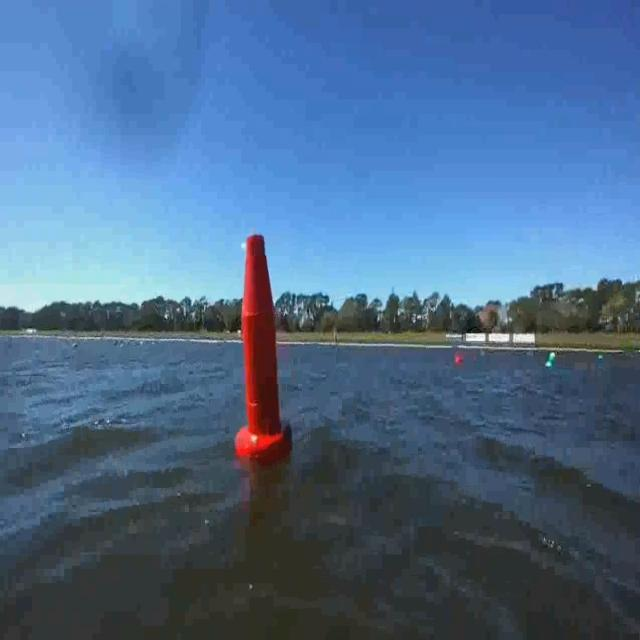green-buoy: (549, 352, 558, 365), (596, 354, 602, 362)
red-buoy: (453, 348, 464, 367)
red-column-buoy: (237, 228, 293, 464)
